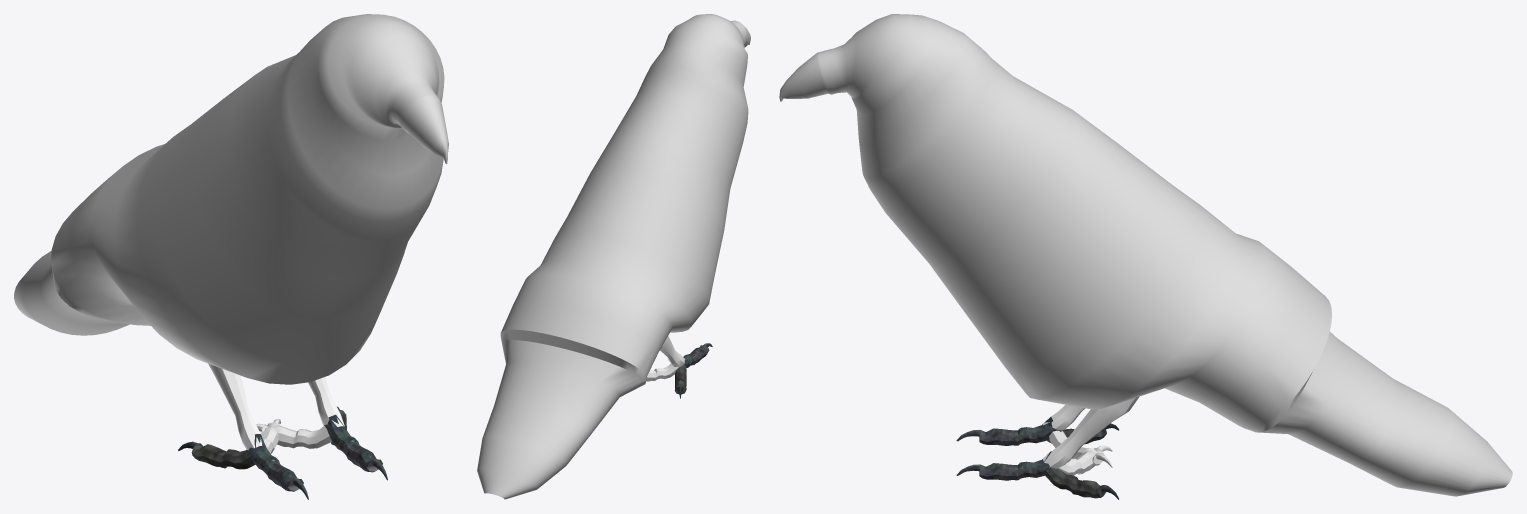
Rendered from corvid.gltf.
The picture shows the model from 3 angles, left to right: view 1: azimuth 30°, elevation 25°; view 2: azimuth 150°, elevation 25°; view 3: azimuth 270°, elevation 25°; orthographic projection. The views are drawn at different scales.
Parts seen in each view (by area): view 1: Cylindre-corps, Cylindre.2-patte1, Cylindre.1-patte, Cylindre.2, Cylindre.2-patte2; view 2: Cylindre-corps, Cylindre.1-patte, Cylindre.2-patte1, Cylindre.2, Cylindre.2-patte2; view 3: Cylindre-corps, Cylindre.2-patte1, Cylindre.1-patte, Cylindre.2-patte2, Cylindre.2.
Boxes of the visible parts, <box> form: Cylindre-corps: <box>14,14,448,384</box>; Cylindre.2-patte1: <box>249,414,387,499</box>; Cylindre.1-patte: <box>208,363,344,450</box>; Cylindre.2: <box>256,418,331,453</box>; Cylindre.2-patte2: <box>178,406,346,469</box>; Cylindre-corps: <box>477,14,750,499</box>; Cylindre.1-patte: <box>660,335,685,366</box>; Cylindre.2-patte1: <box>672,343,712,367</box>; Cylindre.2: <box>646,364,679,381</box>; Cylindre.2-patte2: <box>674,364,686,398</box>; Cylindre-corps: <box>779,14,1512,496</box>; Cylindre.2-patte1: <box>956,417,1065,480</box>; Cylindre.1-patte: <box>1042,396,1139,468</box>; Cylindre.2-patte2: <box>1045,423,1119,499</box>; Cylindre.2: <box>1049,430,1112,475</box>.
Bounding box in the file's own units: 185 × 413 × 584.
Materials: 4 (2 with a texture image).
